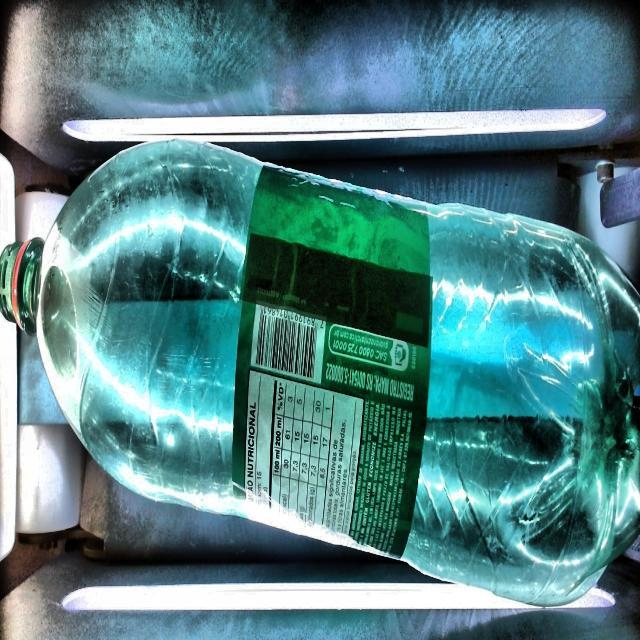bottom: (402, 205, 640, 604)
code: (251, 304, 325, 382)
label: (232, 167, 432, 556)
neck: (0, 137, 255, 522)
